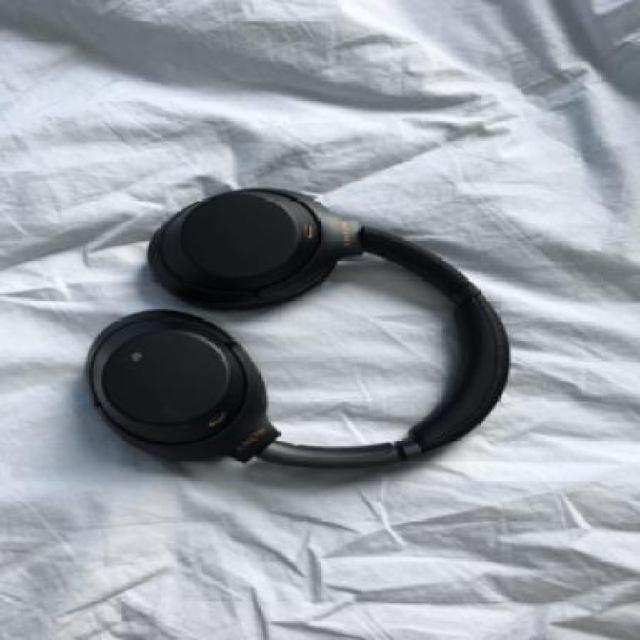earphone: (68, 85, 575, 592)
